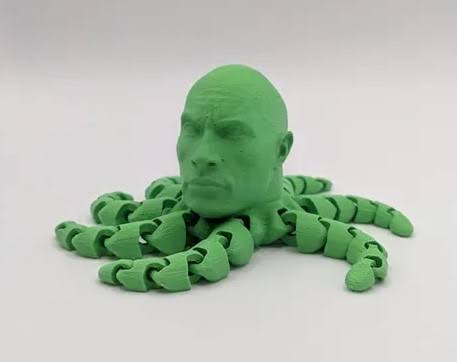3d print: (55, 65, 412, 290)
